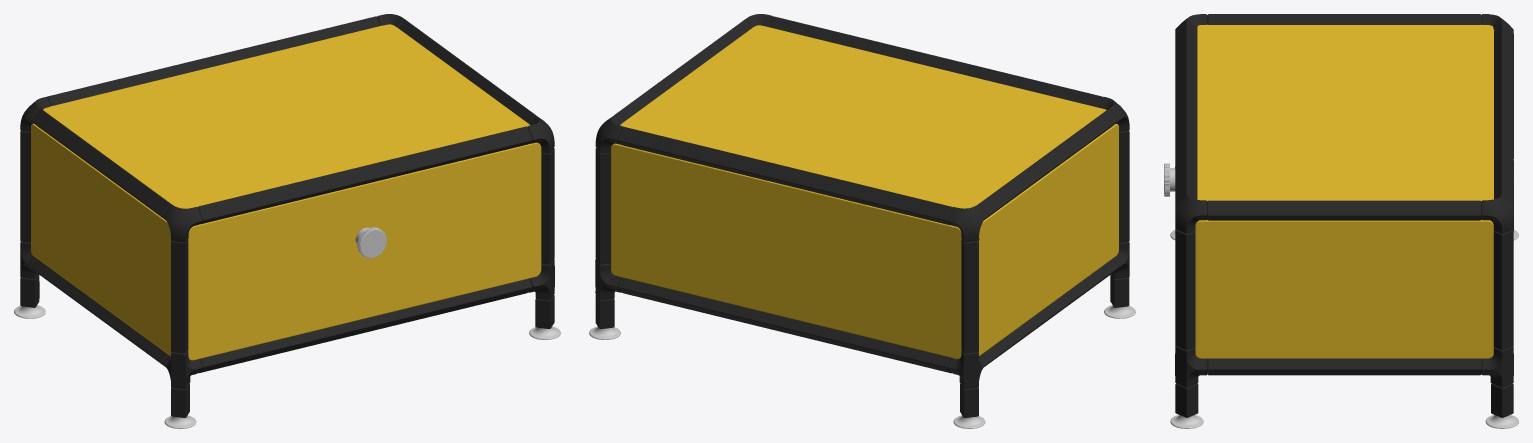
The picture shows the model from 3 angles, left to right: view 1: azimuth 30°, elevation 25°; view 2: azimuth 150°, elevation 25°; view 3: azimuth 270°, elevation 25°; orthographic projection. The views are drawn at different scales.
Visible parts, largest first — view 1: 479x329x154; view 2: 479x329x154; view 3: 479x329x154.
Part boxes in pixels (<box>): 479x329x154: <box>14,14,560,428</box>; 479x329x154: <box>589,14,1135,428</box>; 479x329x154: <box>1164,14,1518,428</box>.
Bounding box in the file's own units: 0.5689 × 0.2933 × 0.4258.
